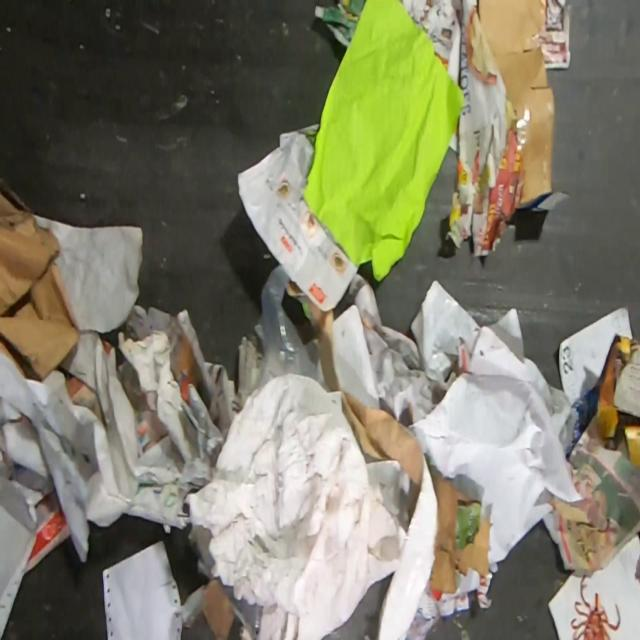cardboard: (477, 0, 556, 203), (0, 192, 81, 382), (342, 388, 422, 488), (430, 467, 492, 593)
soft_plastic: (252, 264, 331, 391)
